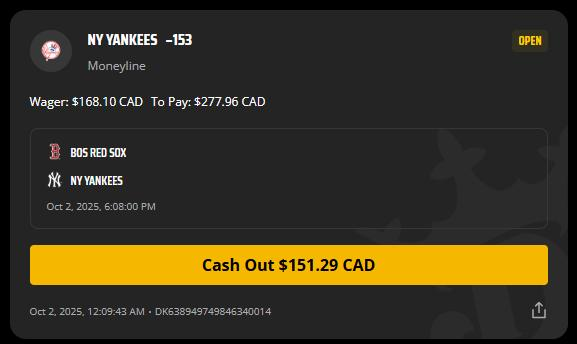game: (69, 146, 128, 188)
odds: (164, 33, 195, 49)
payout: (194, 94, 240, 112)
wager: (71, 94, 118, 111)
